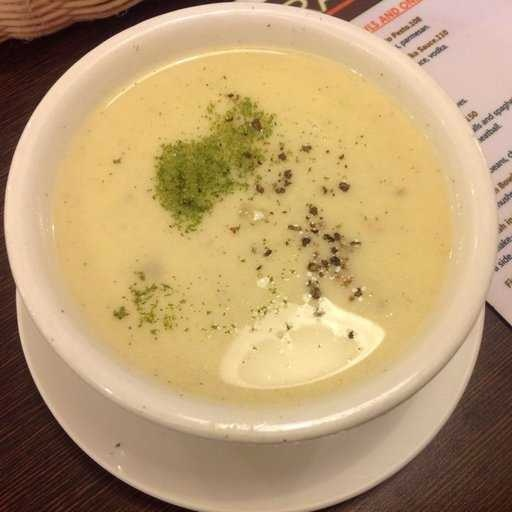soup: (36, 75, 434, 403)
